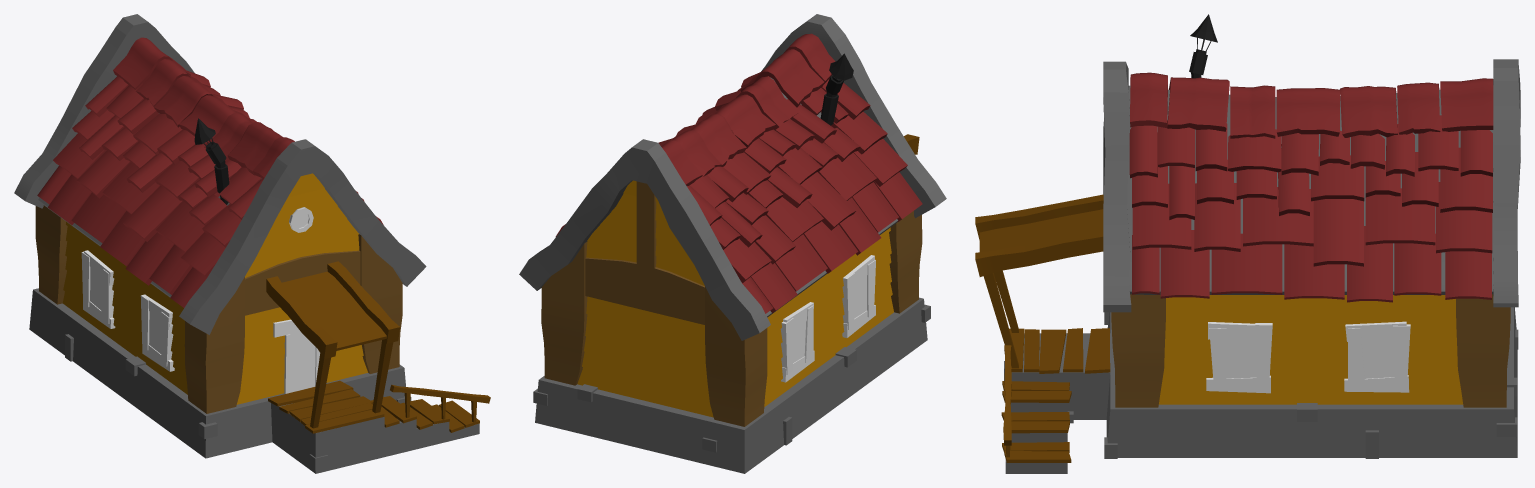
File: House1_final.fbx
The picture shows the model from 3 angles, left to right: view 1: azimuth 30°, elevation 25°; view 2: azimuth 150°, elevation 25°; view 3: azimuth 270°, elevation 25°; orthographic projection. The views are drawn at different scales.
Visible parts, largest first — view 1: Base1; view 2: Base1; view 3: Base1.
Part boxes in pixels (x1=…): Base1: x1=14, y1=14, x2=490, y2=473; Base1: x1=519, y1=14, x2=946, y2=473; Base1: x1=975, y1=14, x2=1520, y2=473.
Size of the model in its own units: 4.61 by 5.11 by 7.23.
